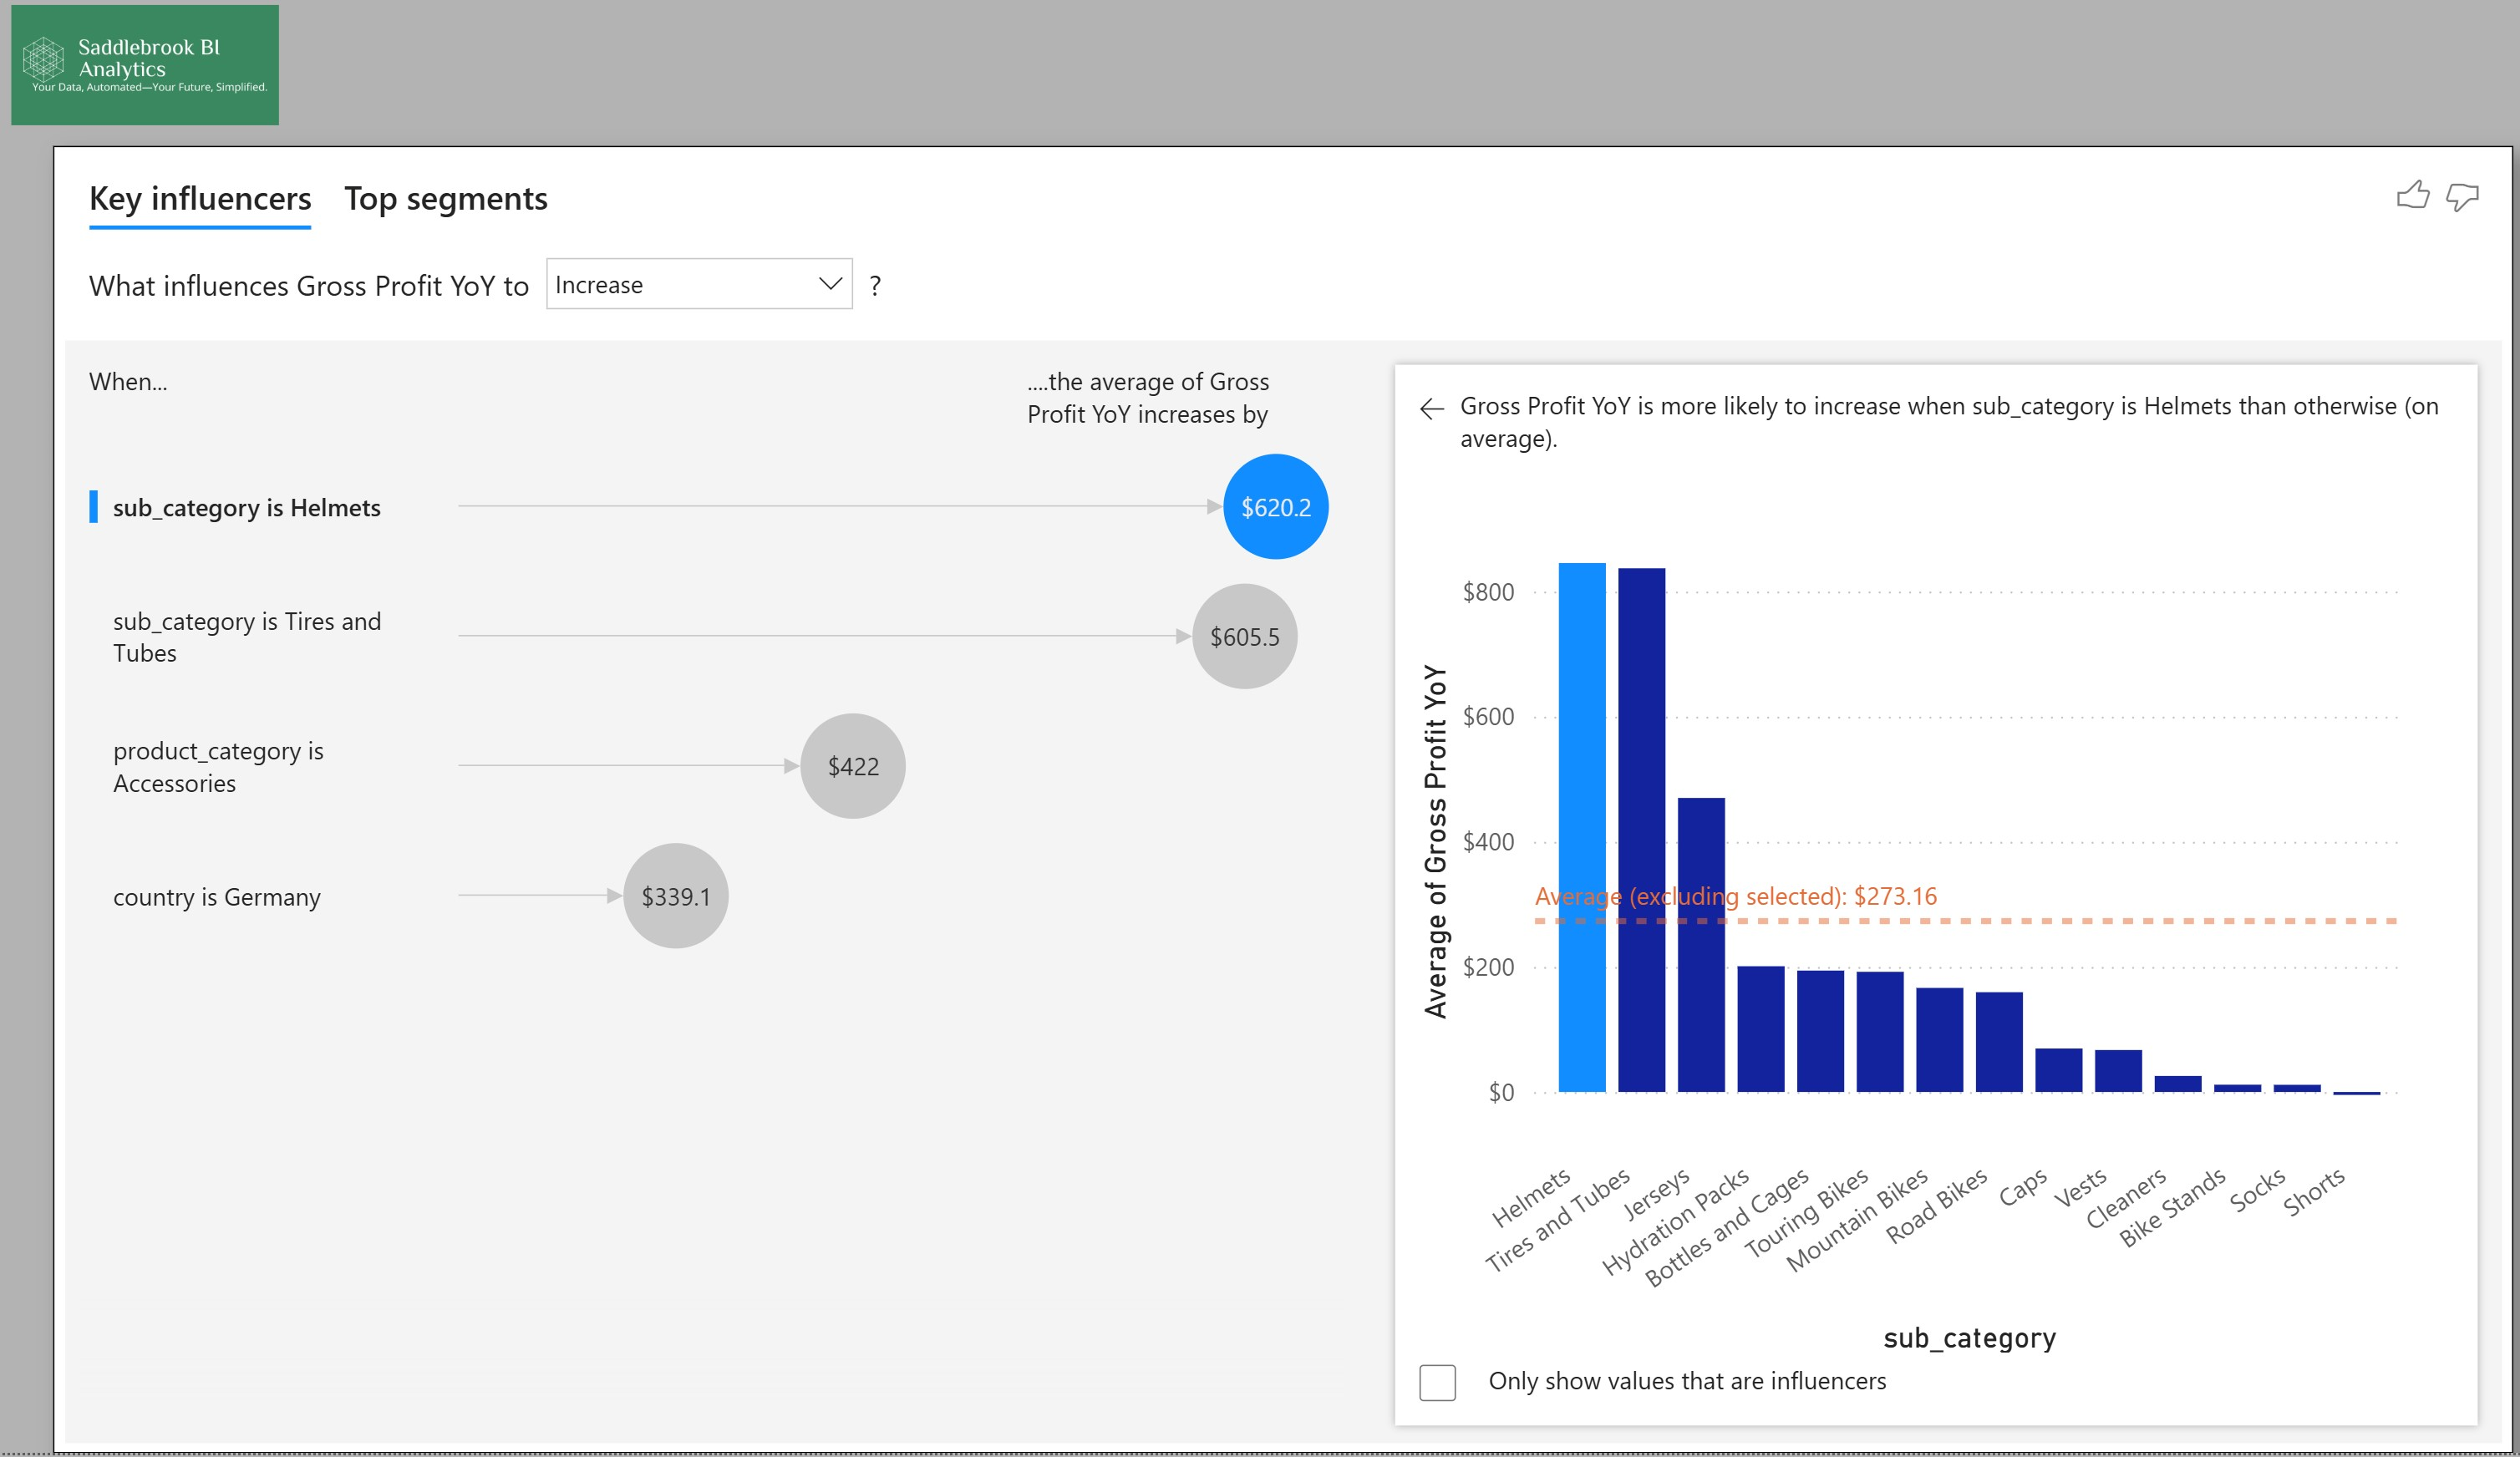

The dashboard page shown, as its layout file describes it:
{"tool":"powerbi","page":{"name":"Key influencers","canvas":[1280,720],"ordinal":2},"visuals":[{"type":"keyDriversVisual","fields":{"Target":["fact_sales.Gross Profit YoY"],"ExplainBy":["fact_sales.country","fact_sales.customer_age","fact_sales.product_category","fact_sales.sub_category","fact_sales.state","fact_sales.customer_gender"]},"box":[26.5,74.6,1214,645.7],"z":0},{"type":"image","box":[0,0,143.8,69.9],"z":1}]}

Visuals, with their boxes in screenshot pixels (x1, y1, x2, y2):
keyDriversVisual - fact_sales.Gross Profit YoY x fact_sales.country: <bbox>60, 144, 2503, 1443</bbox>
image: <bbox>7, 0, 296, 135</bbox>
